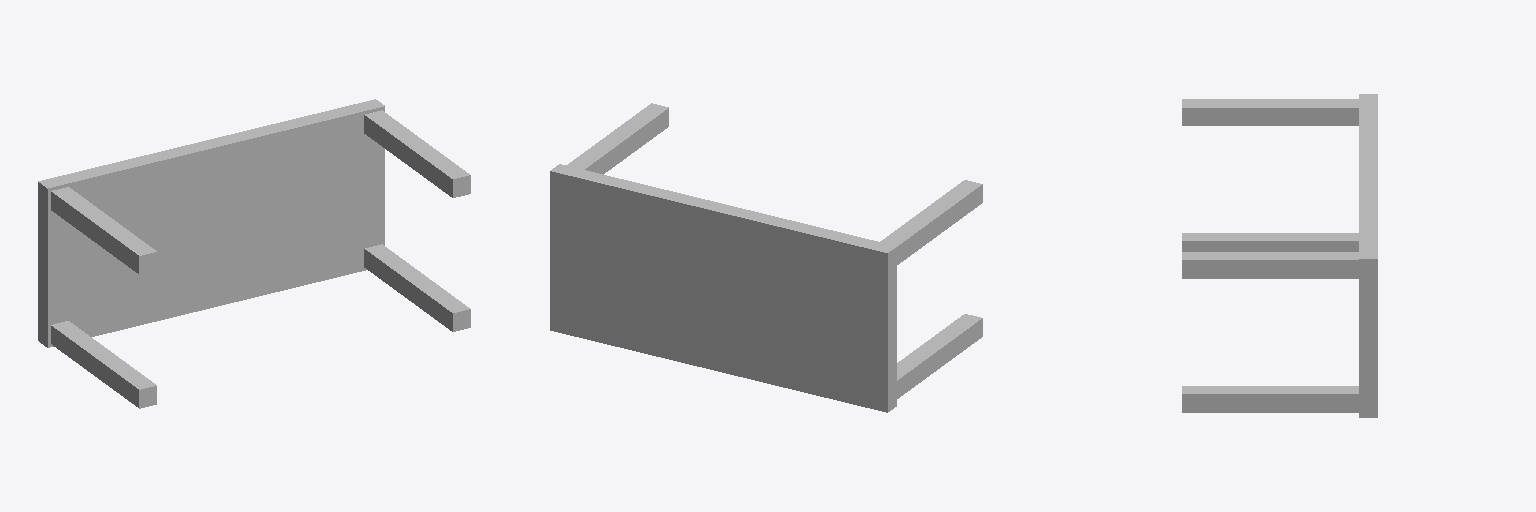
Rendered from random_table51.obj.
The picture shows the model from 3 angles: view 1: azimuth 30°, elevation 25°; view 2: azimuth 150°, elevation 25°; view 3: azimuth 270°, elevation 25°; orthographic projection.
Parts seen in each view (by area): view 1: Table_Cube.1320, TableLeg0_Cube.1321, TableLeg2_Cube.1323, TableLeg3_Cube.1324, TableLeg1_Cube.1322; view 2: Table_Cube.1320, TableLeg1_Cube.1322, TableLeg3_Cube.1324, TableLeg0_Cube.1321; view 3: Table_Cube.1320, TableLeg0_Cube.1321, TableLeg1_Cube.1322, TableLeg2_Cube.1323, TableLeg3_Cube.1324.
Boxes of the visible parts, x1,y1,x2,y2 form: Table_Cube.1320: [38, 99, 384, 347]; TableLeg0_Cube.1321: [364, 110, 470, 197]; TableLeg2_Cube.1323: [364, 244, 470, 331]; TableLeg3_Cube.1324: [51, 321, 156, 408]; TableLeg1_Cube.1322: [51, 187, 156, 274]; Table_Cube.1320: [550, 164, 896, 412]; TableLeg1_Cube.1322: [880, 180, 982, 264]; TableLeg3_Cube.1324: [897, 314, 982, 398]; TableLeg0_Cube.1321: [566, 103, 668, 174]; Table_Cube.1320: [1359, 94, 1377, 417]; TableLeg0_Cube.1321: [1182, 252, 1358, 278]; TableLeg1_Cube.1322: [1182, 99, 1358, 125]; TableLeg2_Cube.1323: [1182, 386, 1358, 412]; TableLeg3_Cube.1324: [1182, 233, 1358, 251].
Size of the model in its own units: 9.82 by 4.43 by 4.95.